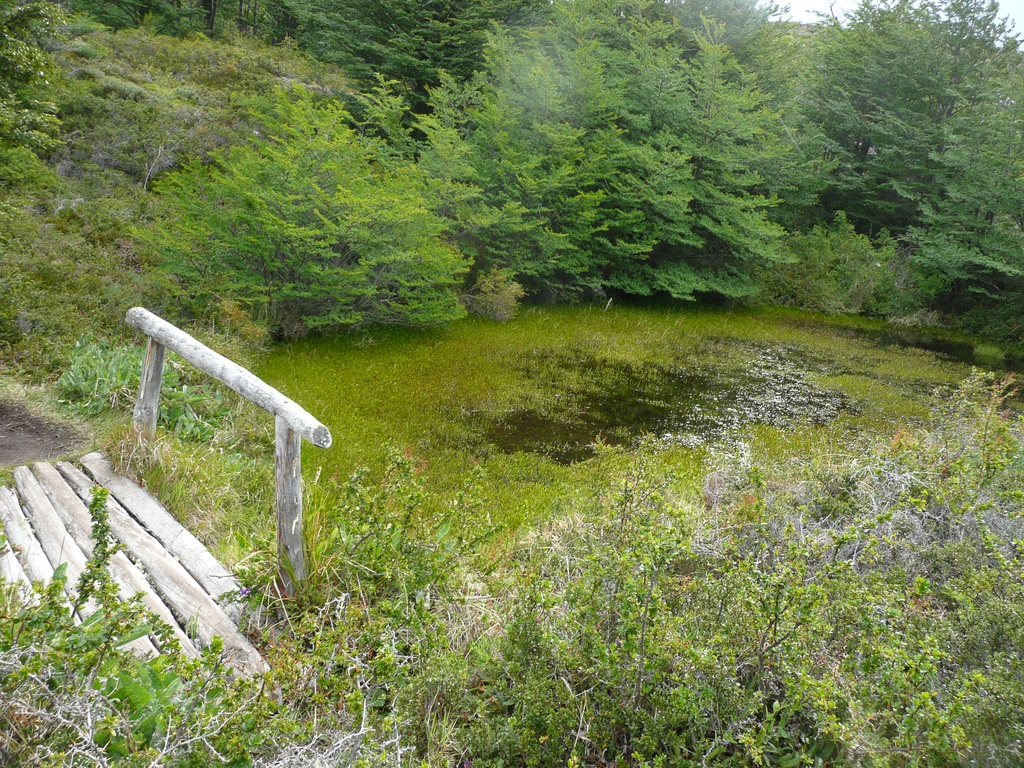Tree: (406, 0, 837, 300), (126, 71, 473, 348), (776, 0, 1023, 319), (286, 0, 556, 170), (0, 0, 71, 181)
